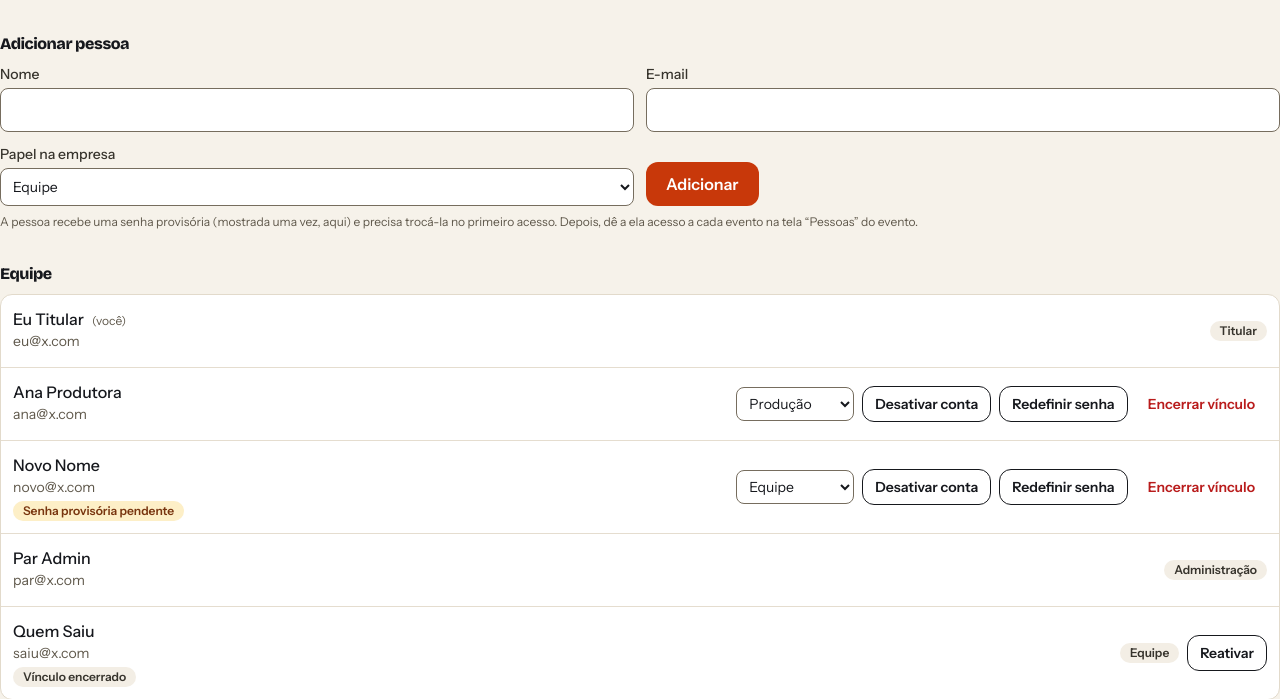
Test case: TeamManager › adicionar pessoa › conta nova: mostra a senha provisória UMA vez, avisa que não aparece de novo, e some ao confirmar
Type "Pessoa Nova" into the field labelled "Nome" at (317, 110), box [0,88,634,132]
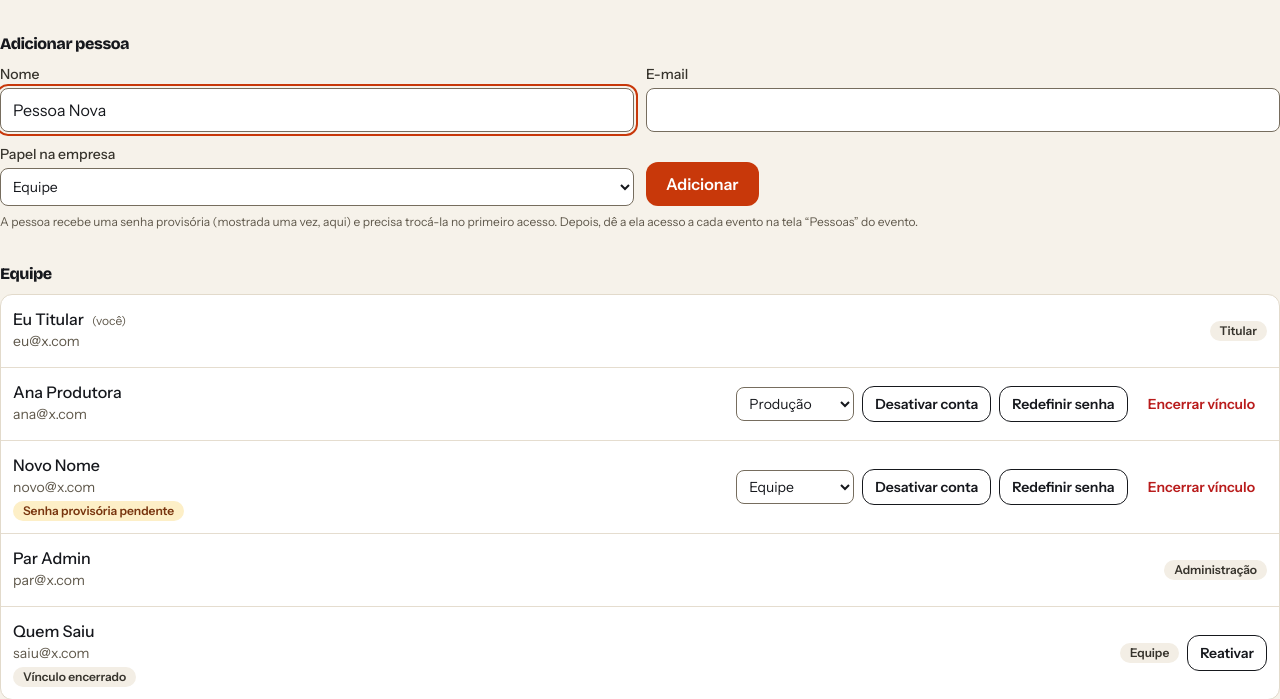
Type "Pessoa.Nova@X.com" into the field labelled "E-mail" at (963, 110), box [646,88,1279,132]
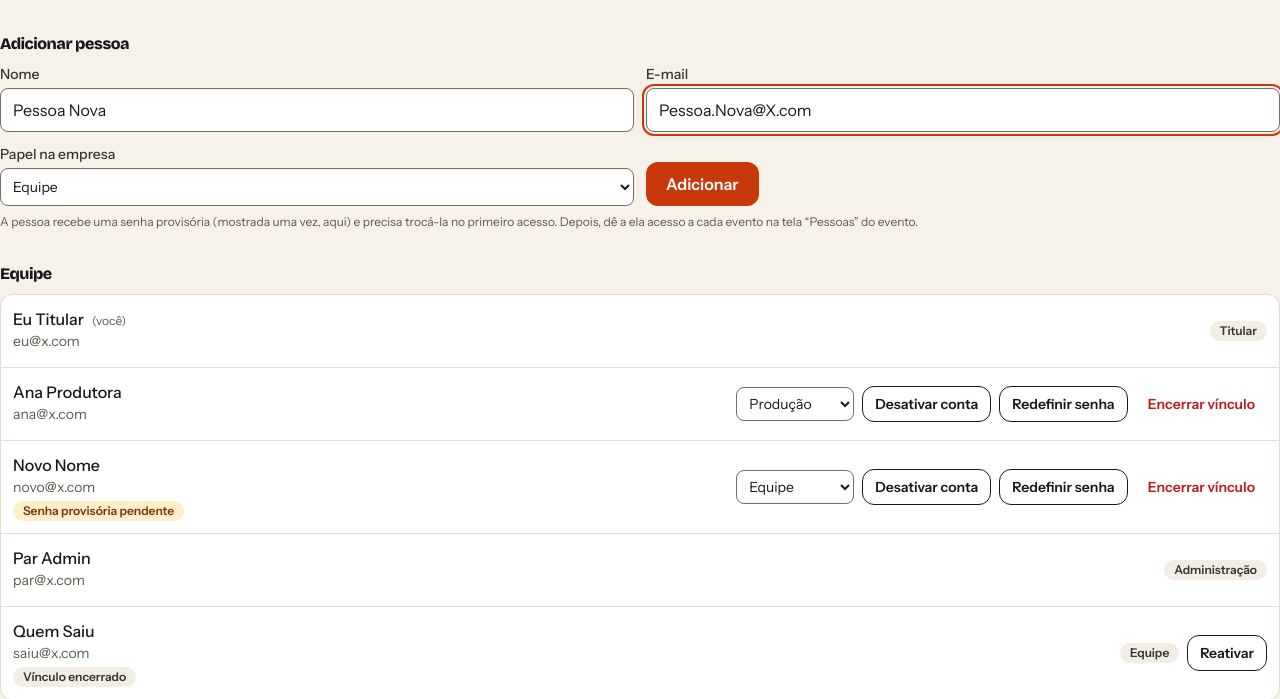
Select "Freelancer" in the dropdown labelled "Papel na empresa" at (317, 187), box [0,168,634,206]
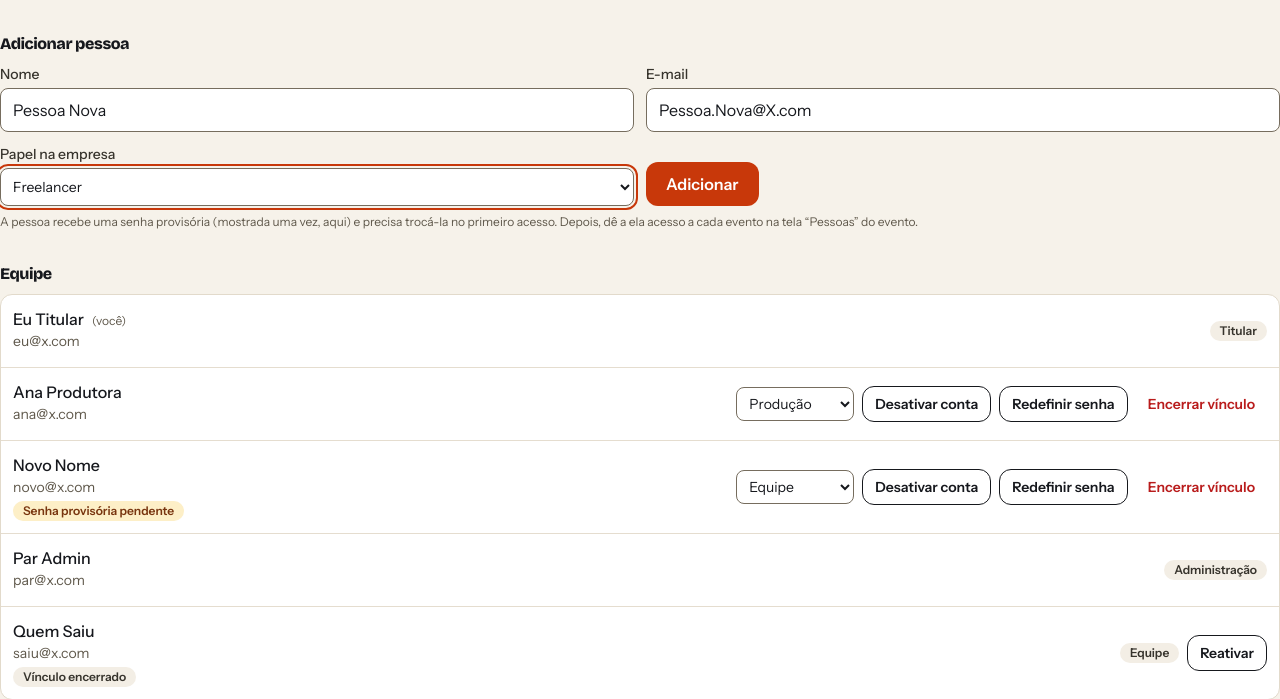
Click the button "Adicionar" at (702, 184), box [646,162,759,206]
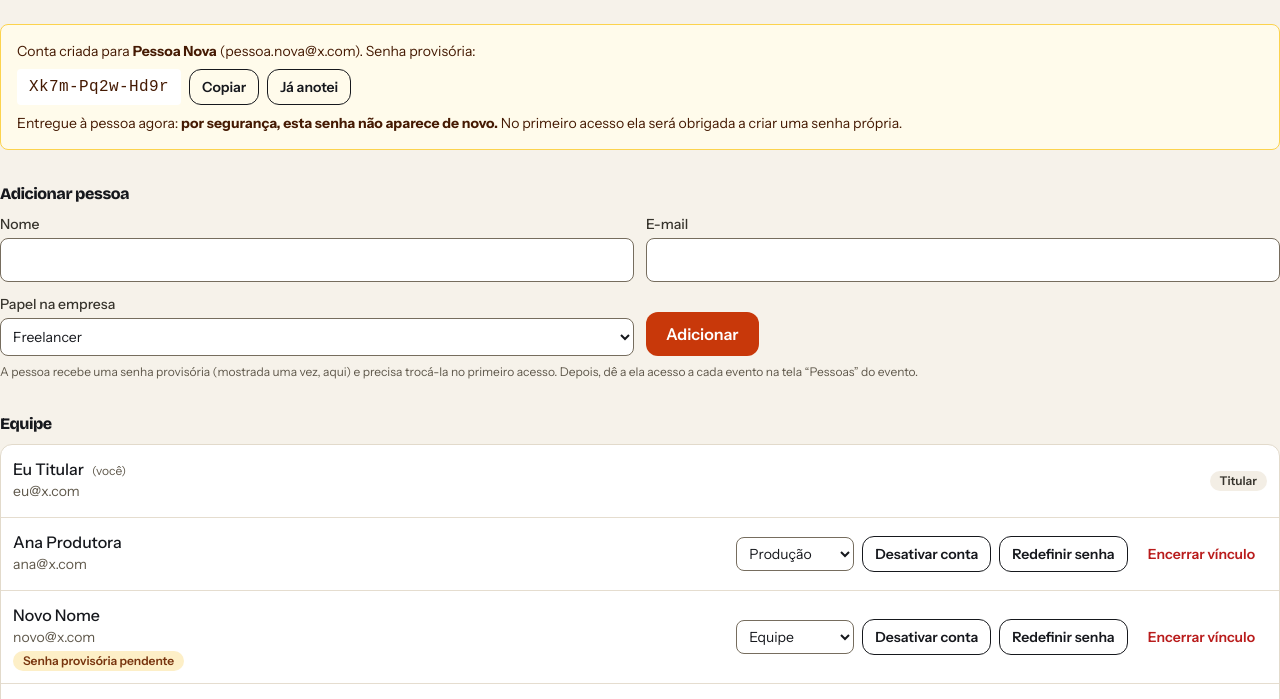
Result: the text with test id "temp-password" reads "Xk7m-Pq2w-Hd9r" at [29,78,169,96]
Result: the element with test id "temp-password-panel" shows "esta senha não aparece de novo" at [181,114,498,132]
Result: the element with test id "temp-password-panel" shows "pessoa.nova@x.com" at [225,42,355,60]
Click the button "Já anotei" at (309, 87), box [267,69,351,105]
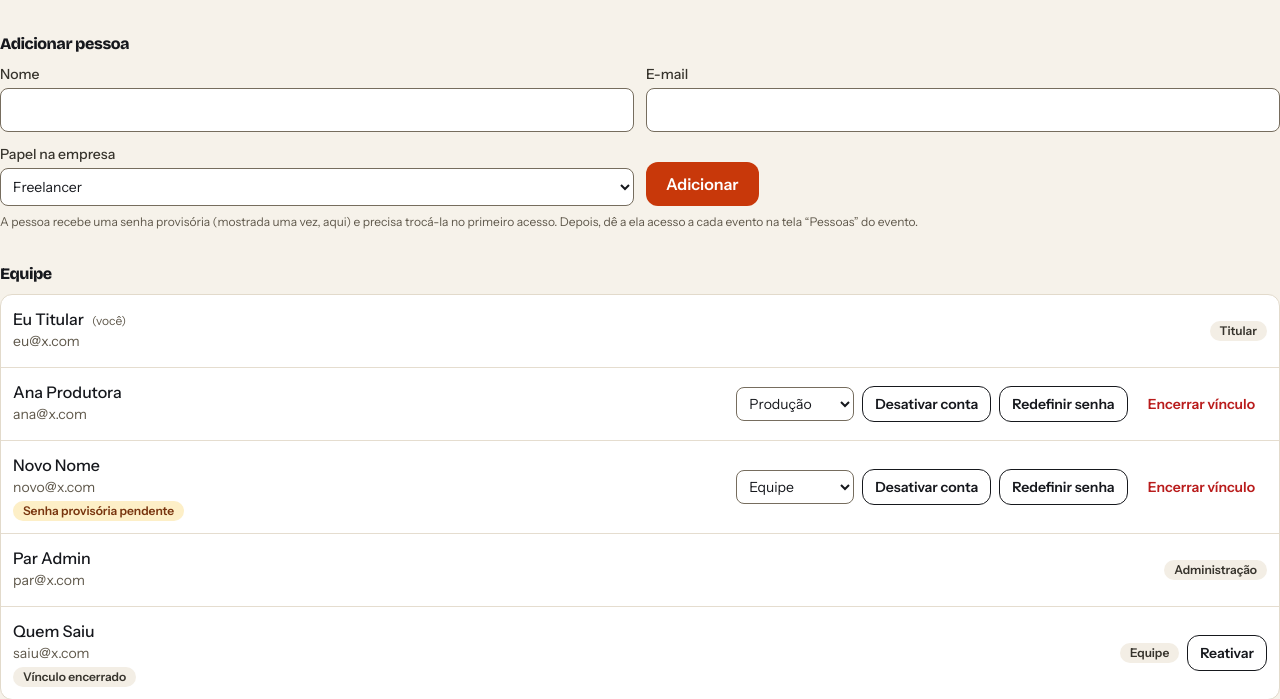
Result: the element with test id "temp-password-panel" is gone
Result: the text "Xk7m-Pq2w-Hd9r" is gone
